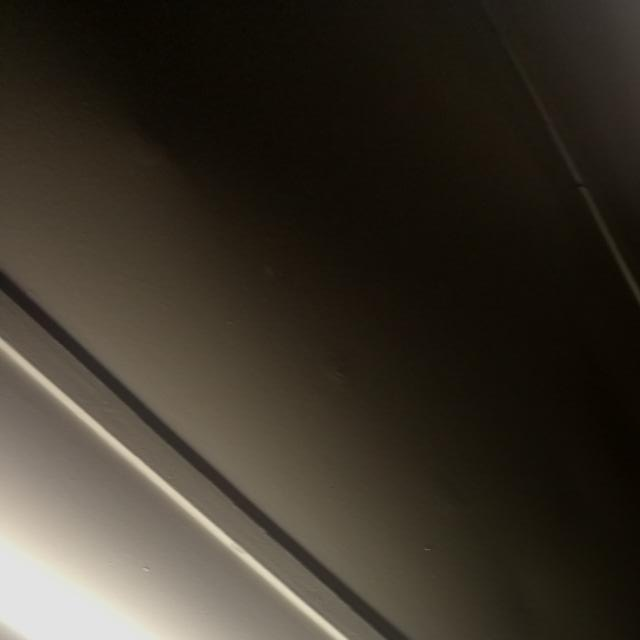fluorescent tube: (0, 486, 583, 640)
